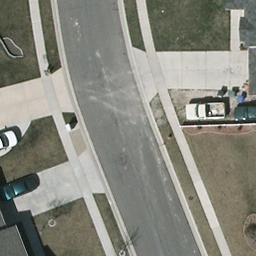car: (0, 173, 42, 203)
pickup: (0, 130, 22, 160), (182, 106, 226, 121)
